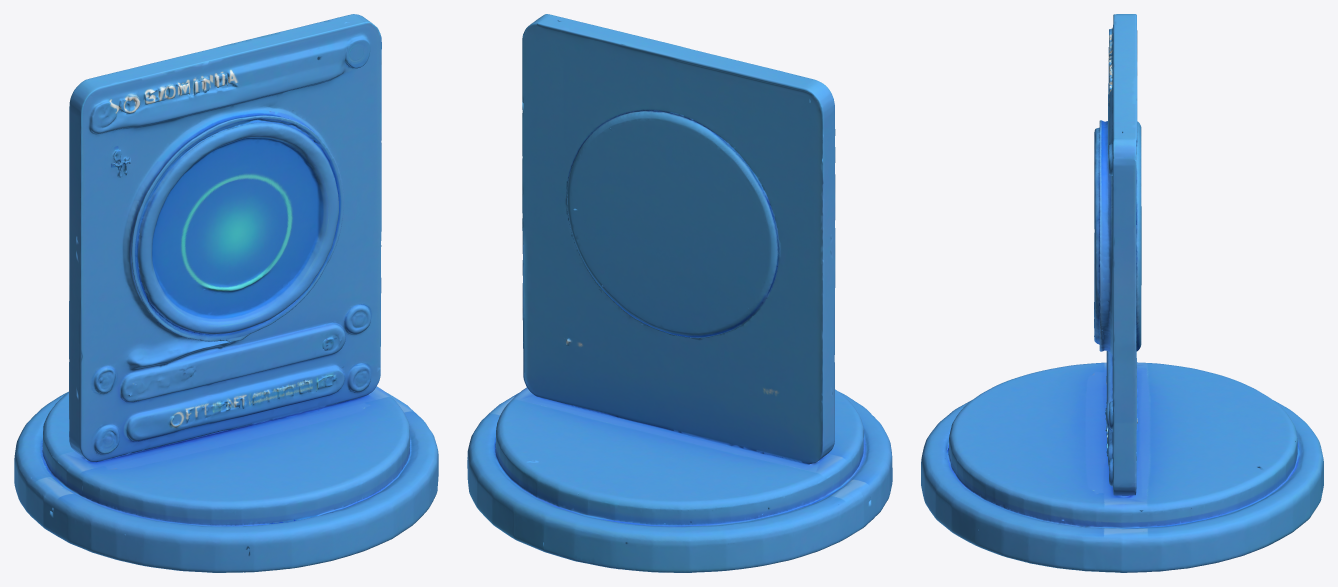
Rendered from nft_staking.glb.
3 renders of one model, left to right at view 1: azimuth 30°, elevation 25°; view 2: azimuth 150°, elevation 25°; view 3: azimuth 270°, elevation 25°, orthographic. The views are drawn at different scales.
Bounding box in the file's own units: 1.77 × 2 × 1.77.
1 material, 1 textured.
